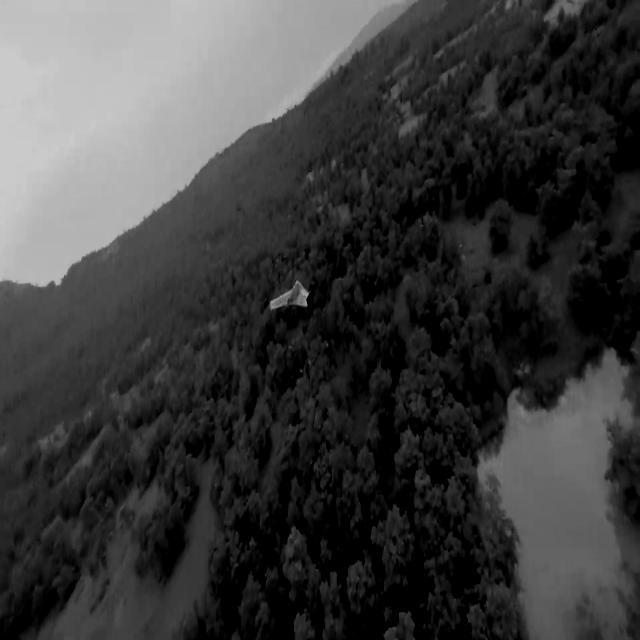iha: (262, 272, 317, 322)
